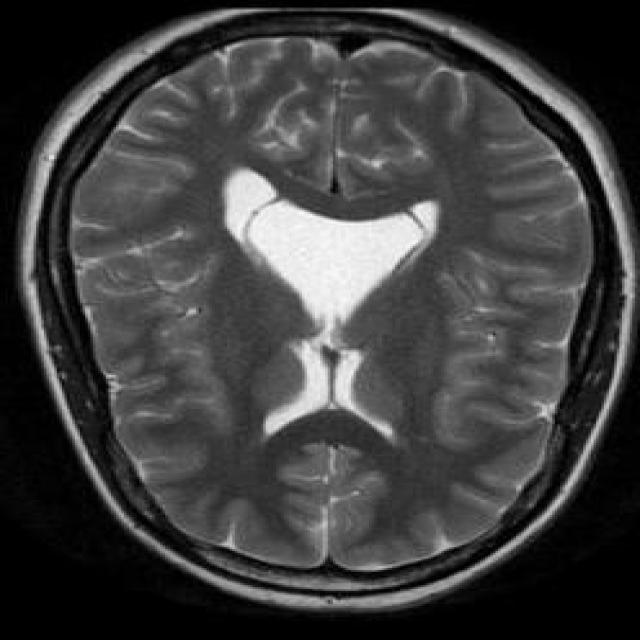Tumor-Cell: (243, 88, 450, 223)
